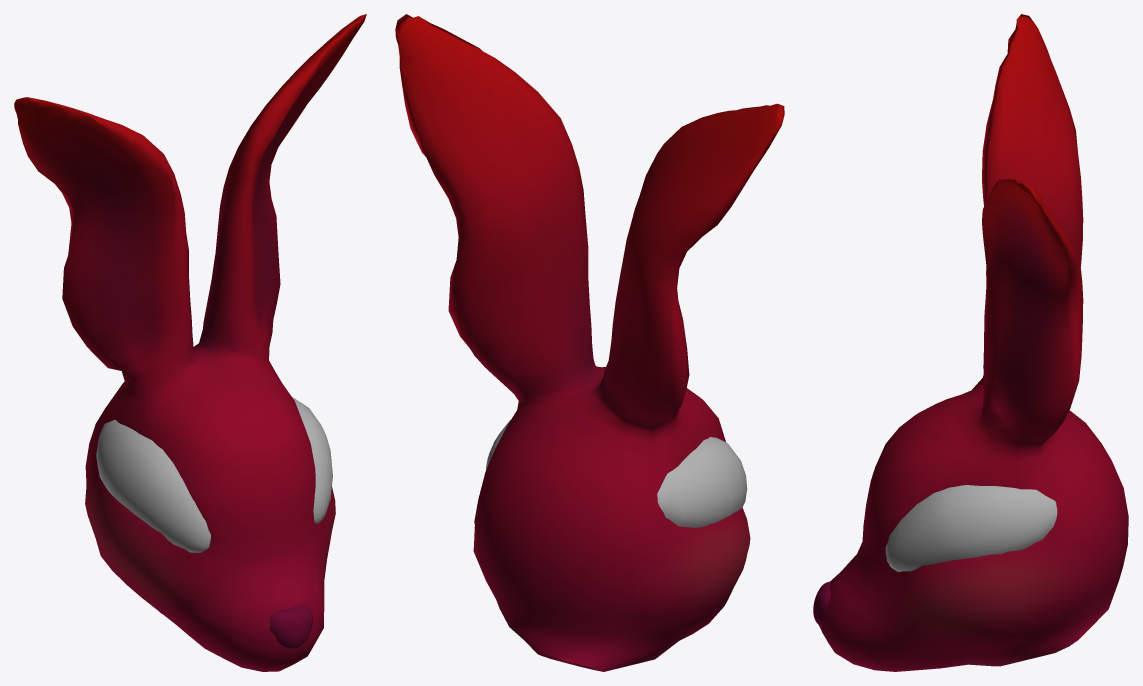
File: Rabbit point.fbx
3 views of the same model, side by side, from view 1: azimuth 30°, elevation 25°; view 2: azimuth 150°, elevation 25°; view 3: azimuth 270°, elevation 25° (orthographic). The views are drawn at different scales.
Parts seen in each view (by area): view 1: Rabbit_Low, Eyes_Low, Nose_Low; view 2: Rabbit_Low, Eyes_Low; view 3: Rabbit_Low, Eyes_Low, Nose_Low.
Part boxes in pixels (x1,y1,x2,y2): Rabbit_Low: [14, 14, 366, 671]; Eyes_Low: [96, 397, 332, 552]; Nose_Low: [269, 606, 313, 648]; Rabbit_Low: [395, 14, 784, 671]; Eyes_Low: [486, 420, 747, 527]; Rabbit_Low: [819, 14, 1128, 671]; Eyes_Low: [885, 485, 1057, 571]; Nose_Low: [813, 581, 830, 625].
Bounding box in the file's own units: 1.29 × 1.96 × 0.9903.
